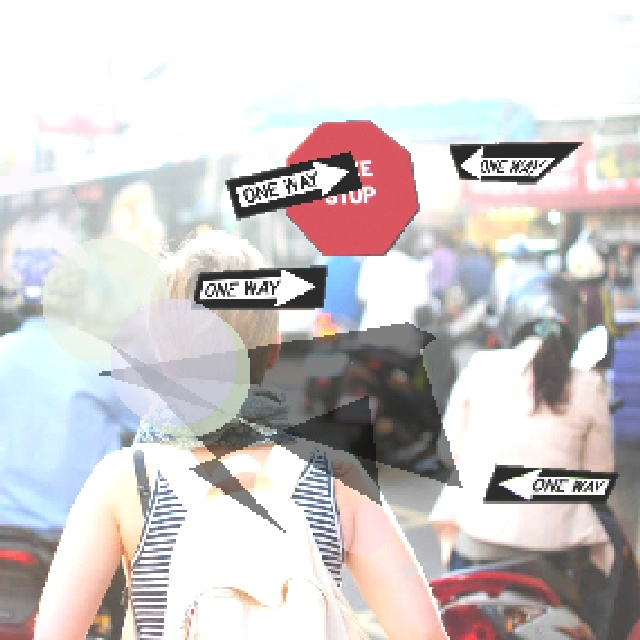FAKE_STOP: (283, 118, 418, 256)
ONE_WAY_ left: (446, 139, 584, 182), (480, 462, 618, 501)
ONE_WAY_ right: (223, 149, 361, 218), (188, 263, 326, 308)
